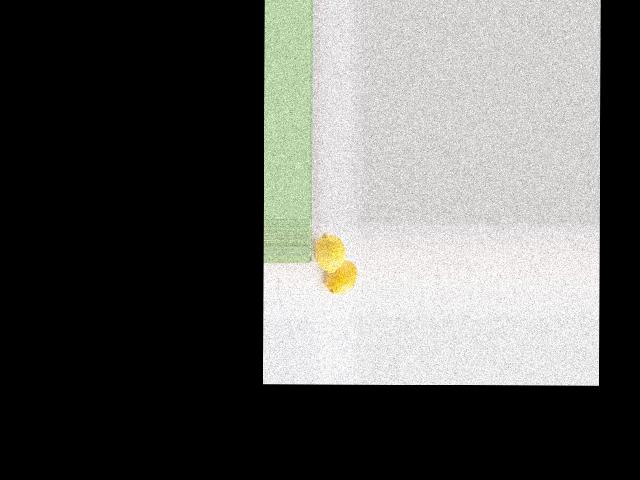lemon: (327, 261, 358, 295)
